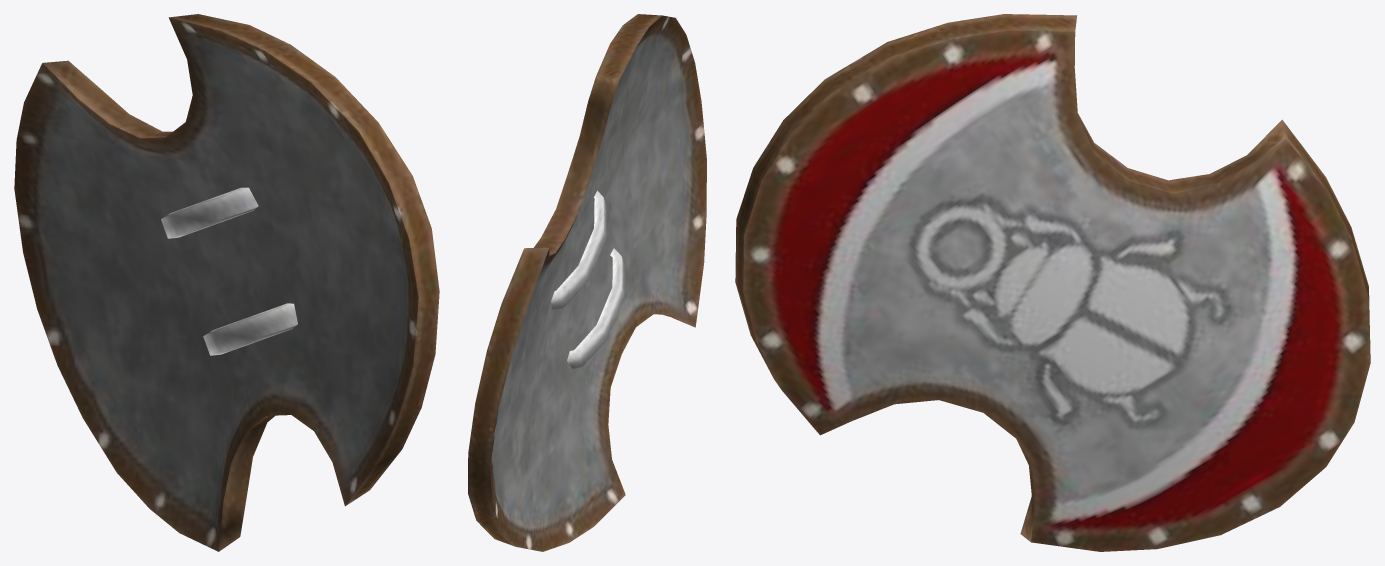
The model's file is rider-shield-slice-bronzeshields.glb.
The picture shows the model from 3 angles, left to right: view 1: azimuth 30°, elevation 25°; view 2: azimuth 150°, elevation 25°; view 3: azimuth 270°, elevation 25°; orthographic projection. The views are drawn at different scales.
Size of the model in its own units: 0.11 by 0.4548 by 0.4973.
1 material, 1 textured.
